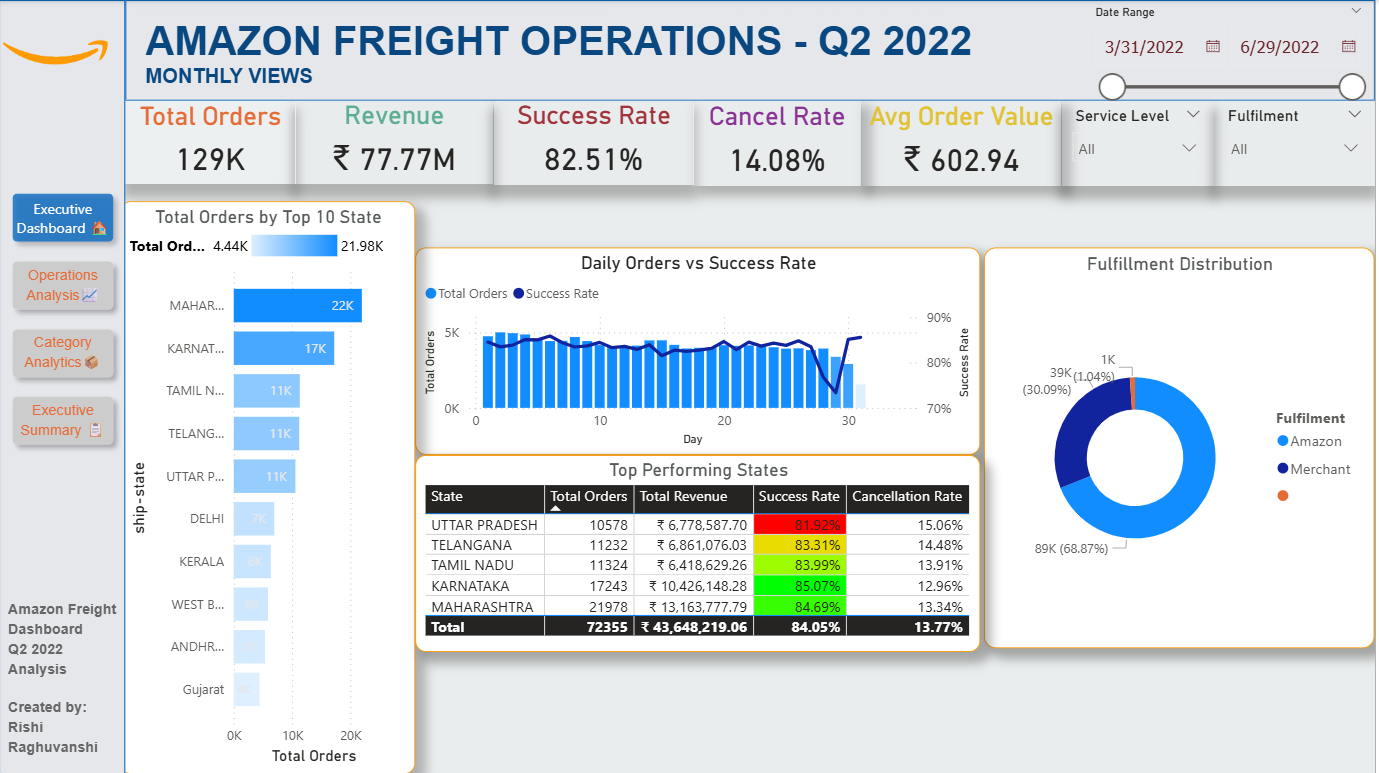

The page's visual inventory and layout, read from the dashboard file:
{"tool":"powerbi","page":{"name":"Executive Dashboard 🏠","canvas":[1280,720],"ordinal":0},"visuals":[{"type":"card","title":"Total Orders","fields":{"Values":["amazon_enriched.Total Orders"]},"box":[117.1,94.3,158.6,77.1],"z":0},{"type":"card","title":"Revenue","fields":{"Values":["amazon_enriched.Total Revenue"]},"box":[275.7,92.9,184.3,78.6],"z":1000},{"type":"card","title":"Success Rate","fields":{"Values":["amazon_enriched.Success Rate"]},"box":[460,92.9,185.9,78.8],"z":2000},{"type":"card","title":"Cancel Rate","fields":{"Values":["amazon_enriched.Cancellation Rate"]},"box":[645.7,94.3,157.1,78.6],"z":3000},{"type":"card","title":"Avg Order Value","fields":{"Values":["amazon_enriched.AOV"]},"box":[802.9,94.3,185.7,78.6],"z":4000},{"type":"lineStackedColumnComboChart","title":"Daily Orders vs Success Rate","fields":{"Category":["amazon_enriched.Date.Variation.Date Hierarchy.Day"],"Y":["amazon_enriched.Total Orders"],"Y2":["amazon_enriched.Success Rate"]},"box":[387.5,230,525.9,193.2],"z":5000},{"type":"clusteredBarChart","title":"Total Orders by Top 10 State","fields":{"Y":["amazon_enriched.Total Orders"],"Category":["amazon_enriched.ship-state"]},"box":[112.9,187.1,274.3,532.9],"z":6000},{"type":"donutChart","title":"Fulfillment Distribution","fields":{"Category":["amazon_enriched.Fulfilment"],"Y":["amazon_enriched.Total Orders"]},"box":[916.8,230,362.9,373],"z":7000},{"type":"tableEx","title":"Top Performing States","fields":{"Values":["amazon_enriched.ship-state","amazon_enriched.Total Orders","amazon_enriched.Total Revenue","amazon_enriched.Success Rate","amazon_enriched.Cancellation Rate"]},"box":[387.5,423.2,525.9,183.1],"z":8000},{"type":"slicer","fields":{"Values":["amazon_enriched.Fulfilment"]},"box":[1130,94.3,150,78.6],"z":9000},{"type":"slicer","fields":{"Values":["amazon_enriched.ship-service-level"]},"box":[988.6,94.3,141.4,78.6],"z":10000},{"type":"shape","box":[0,0,117.5,720],"z":11000},{"type":"image","box":[0,0,117.1,94.3],"z":12000},{"type":"shape","box":[117.5,0,1162.5,93.8],"z":13000},{"type":"slicer","title":"Date Range","fields":{"Values":["amazon_enriched.Date"]},"box":[1007.1,0,272.9,107.1],"z":14000},{"type":"textbox","box":[131.2,11.2,868.8,70],"z":15000},{"type":"textbox","box":[131.4,55.7,247.1,51.4],"z":16000},{"type":"pageNavigator","box":[3.5,170.9,112.8,252.3],"z":17000},{"type":"textbox","box":[3.5,552.3,112.8,167.4],"z":18000}]}

Visuals, with their boxes on the page's 1280x720 design canvas (x1, y1, x2, y2). These are canvas units, not pixel positions in the 1379x773 screenshot, which may show the page scaled, cropped or inside an application window:
"Total Orders" card: region(117, 94, 276, 171)
"Revenue" card: region(276, 93, 460, 172)
"Success Rate" card: region(460, 93, 646, 172)
"Cancel Rate" card: region(646, 94, 803, 173)
"Avg Order Value" card: region(803, 94, 989, 173)
"Daily Orders vs Success Rate" lineStackedColumnComboChart: region(388, 230, 913, 423)
"Total Orders by Top 10 State" clusteredBarChart: region(113, 187, 387, 720)
"Fulfillment Distribution" donutChart: region(917, 230, 1280, 603)
"Top Performing States" tableEx: region(388, 423, 913, 606)
slicer - amazon_enriched.Fulfilment: region(1130, 94, 1280, 173)
slicer - amazon_enriched.ship-service-level: region(989, 94, 1130, 173)
shape: region(0, 0, 118, 720)
image: region(0, 0, 117, 94)
shape: region(118, 0, 1280, 94)
"Date Range" slicer: region(1007, 0, 1280, 107)
textbox: region(131, 11, 1000, 81)
textbox: region(131, 56, 378, 107)
pageNavigator: region(4, 171, 116, 423)
textbox: region(4, 552, 116, 720)
